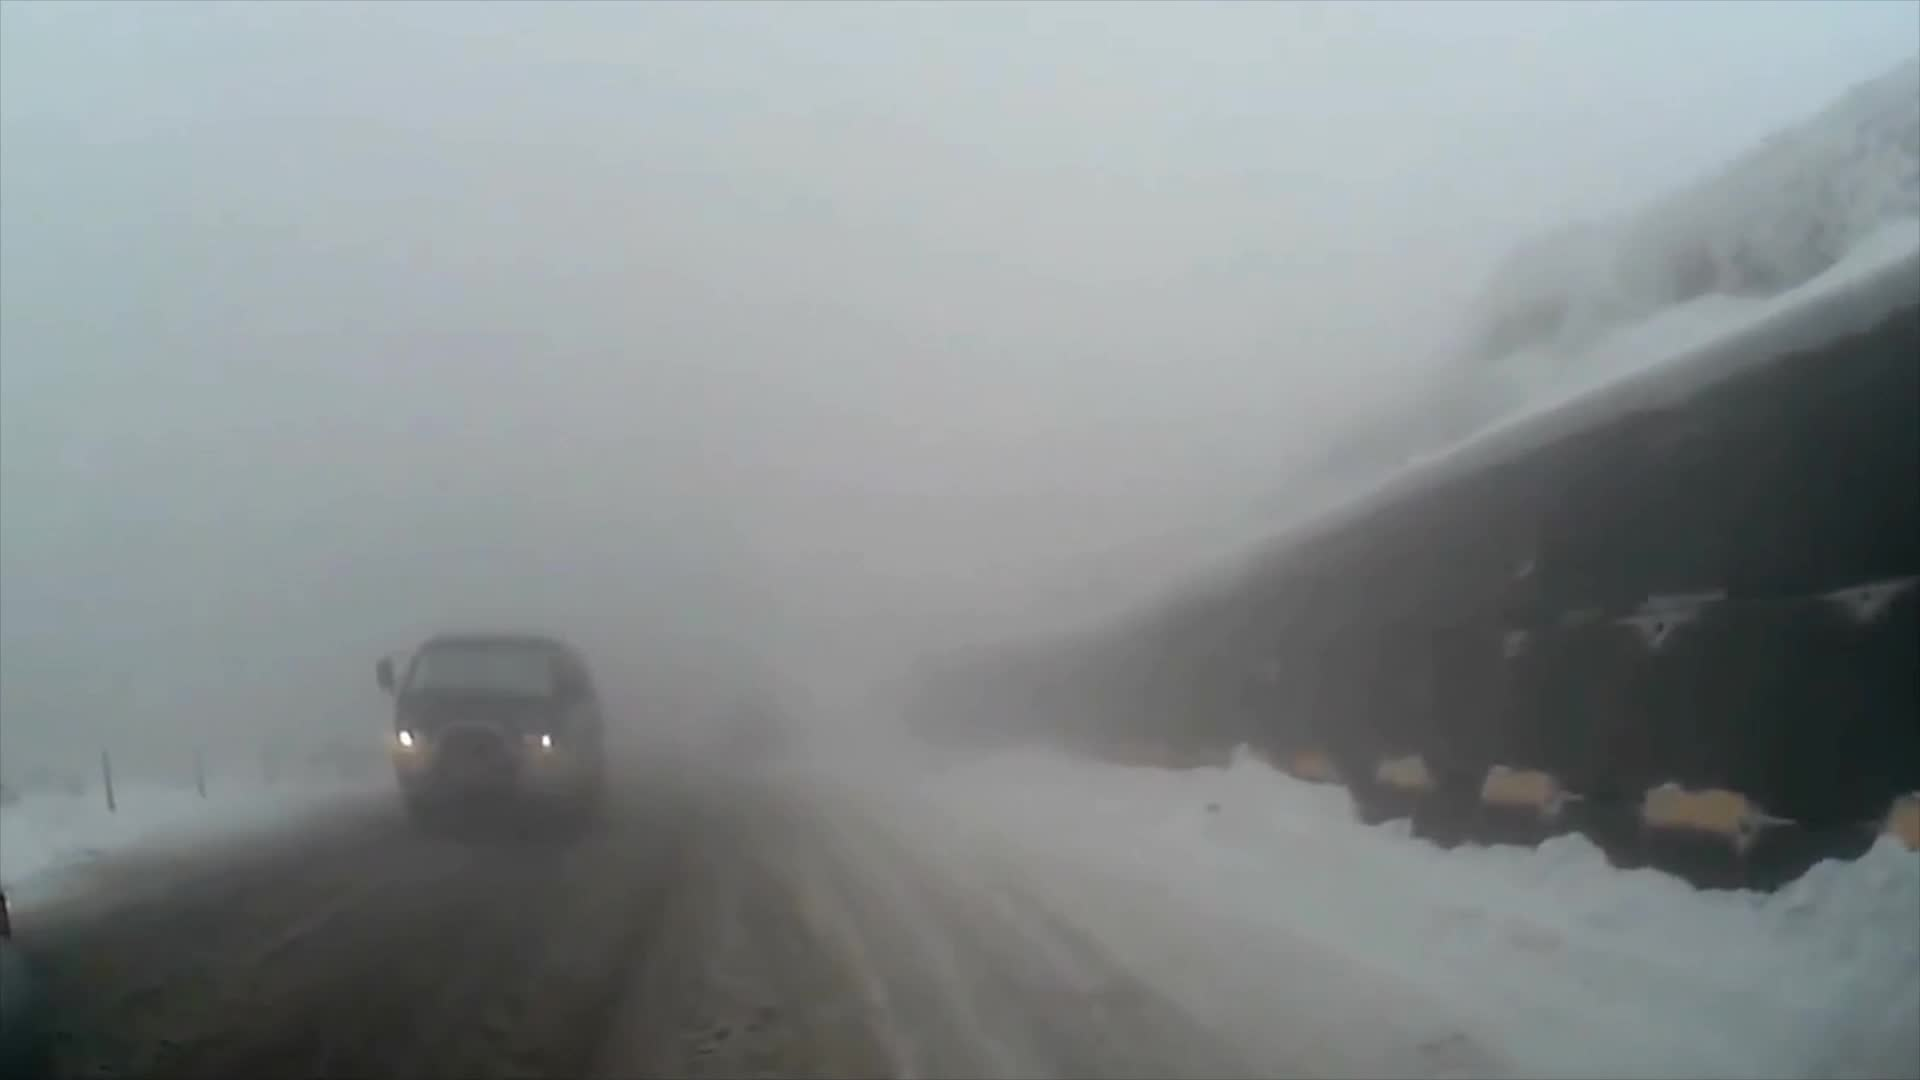vehicle: (371, 630, 607, 837), (0, 880, 51, 1079)
